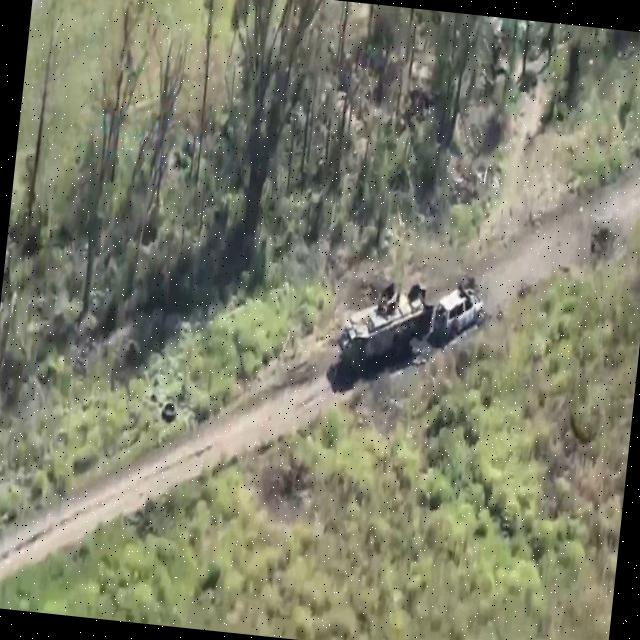APC: (334, 272, 437, 394)
Vehicle: (432, 277, 489, 356)
